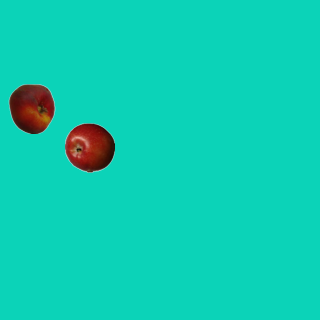Apple Braeburn: (64, 122, 114, 172)
Nectarine Flat: (6, 83, 56, 133)
